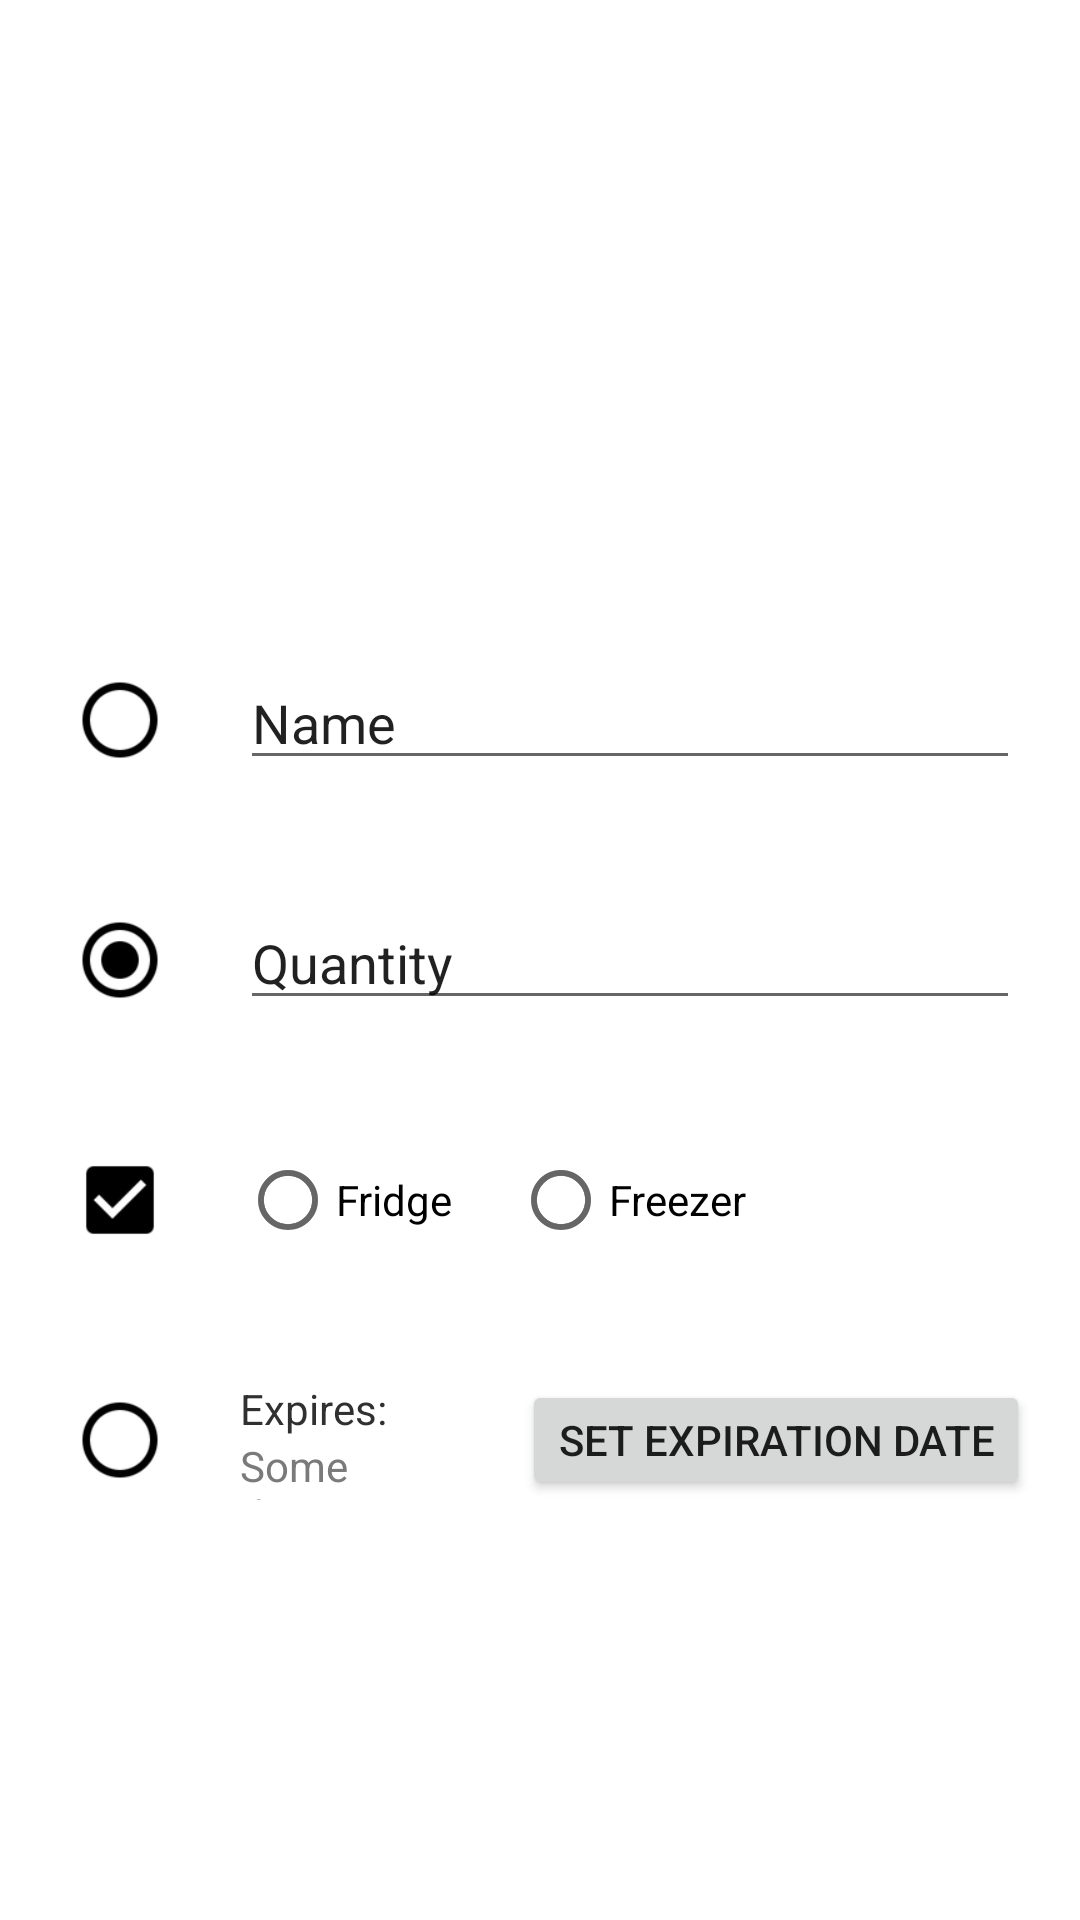

Screen size 1080×1920. Icon name, then its box in pixels as box(x1, y1, x2, y2):
check to on: box(86, 1166, 154, 1234)
radio to on: box(82, 682, 158, 758), box(82, 922, 158, 998), box(82, 1402, 158, 1478)
